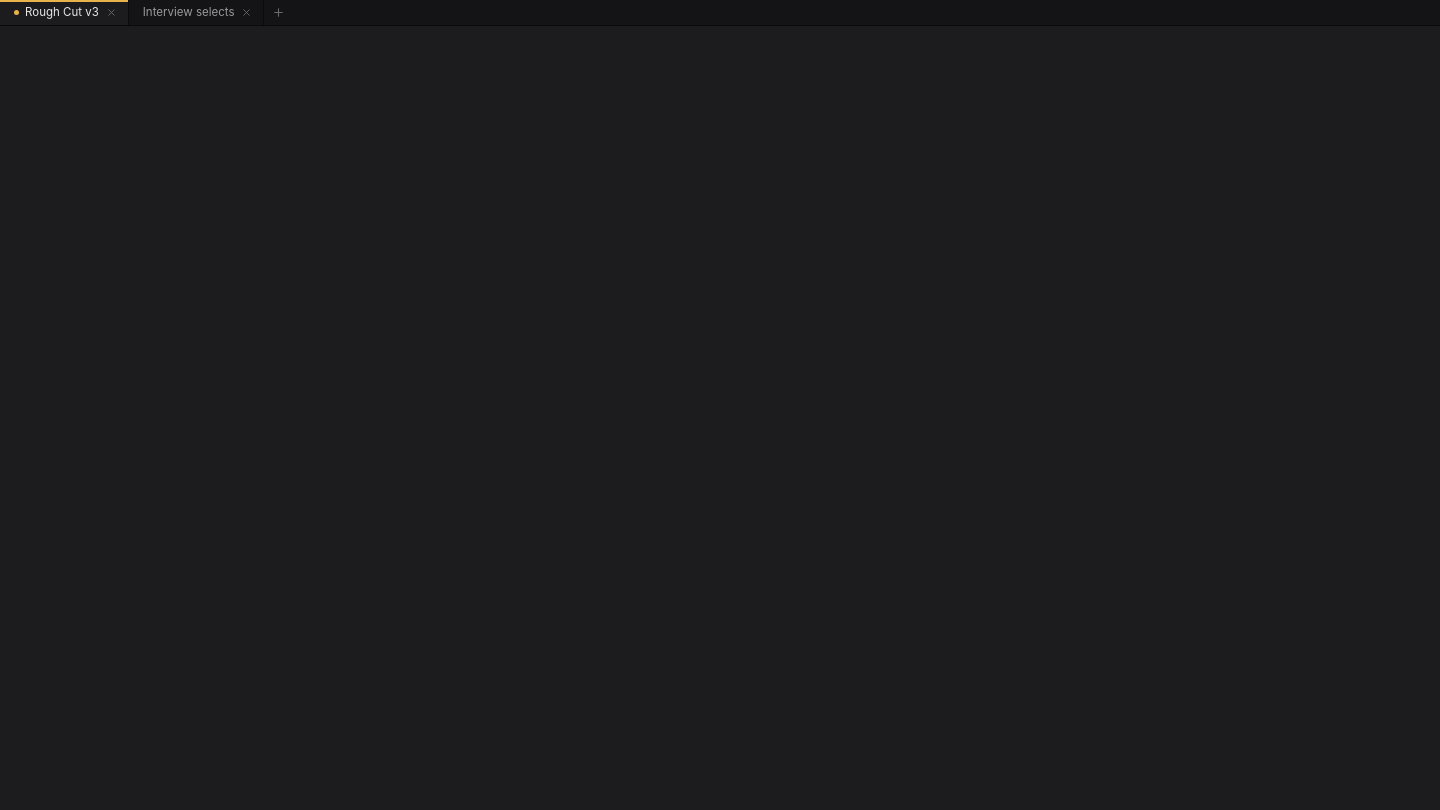
Test case: SceneTabs › cancelling the confirm dialog keeps the scene (spec 18 §6.4)
This screenshot has width=1440, height=810.
Click the button named "Close scene Rough Cut v3".
click(111, 12)  # box [105, 6, 118, 19]
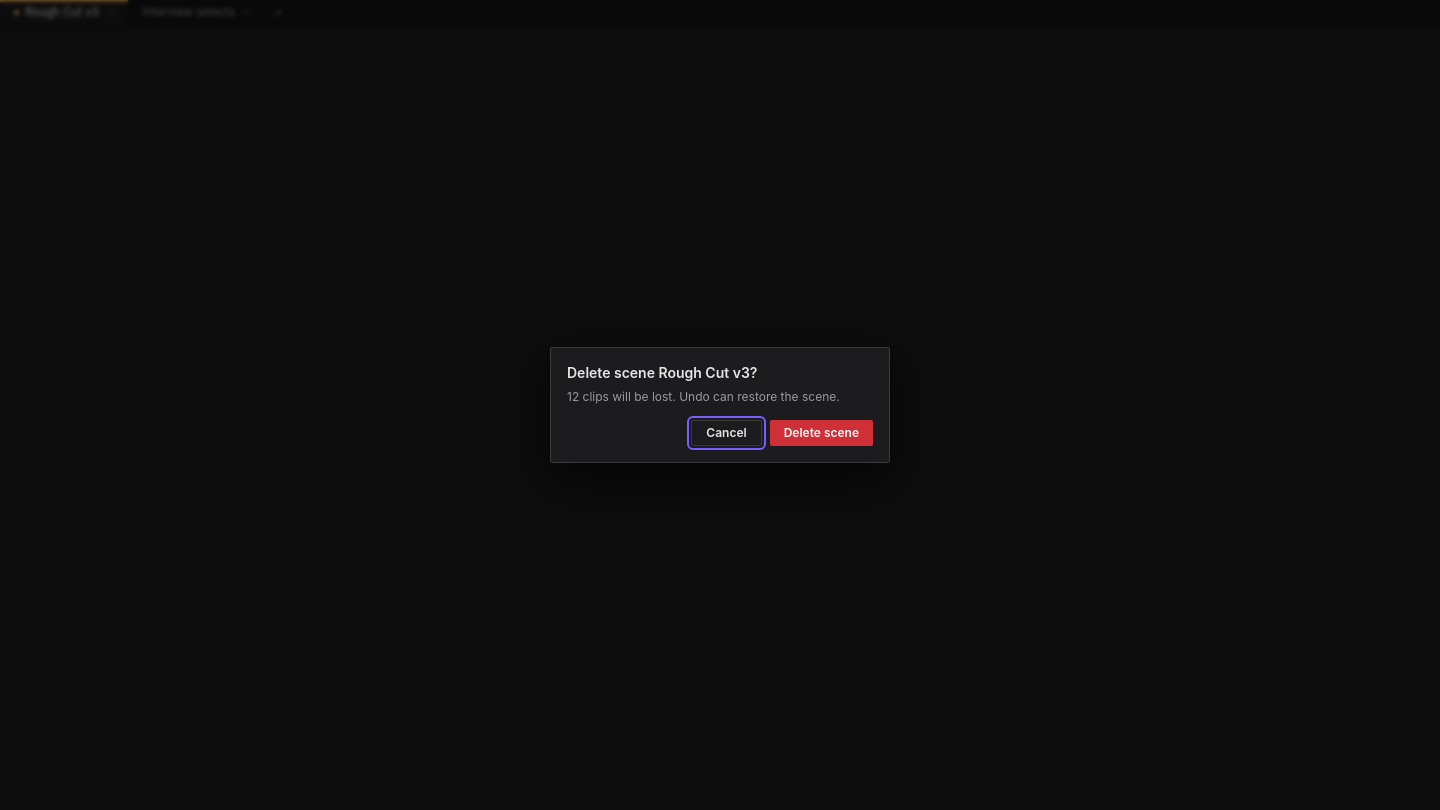
Click the button with test id "shell-confirm-cancel".
click(726, 433)  # box [691, 420, 762, 446]
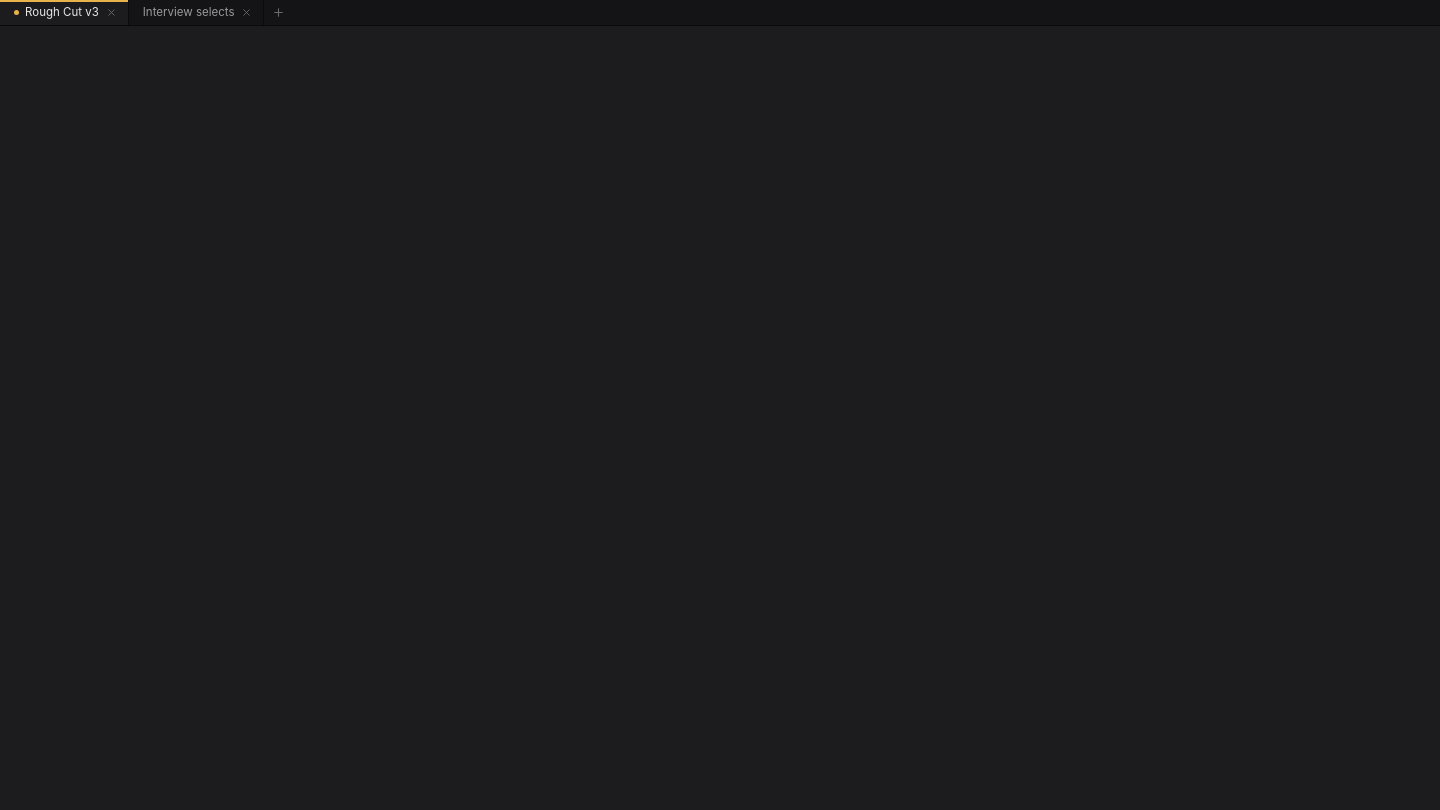
Check: the dialog with test id "shell-confirm" is gone
